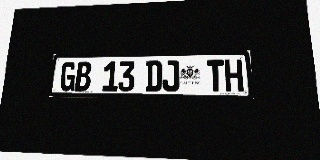1: (102, 61, 119, 91)
3: (118, 61, 135, 91)
B: (75, 62, 92, 91)
D: (145, 61, 162, 91)
G: (59, 62, 77, 91)
H: (224, 59, 244, 92)
J: (162, 60, 179, 92)
T: (207, 60, 225, 92)
